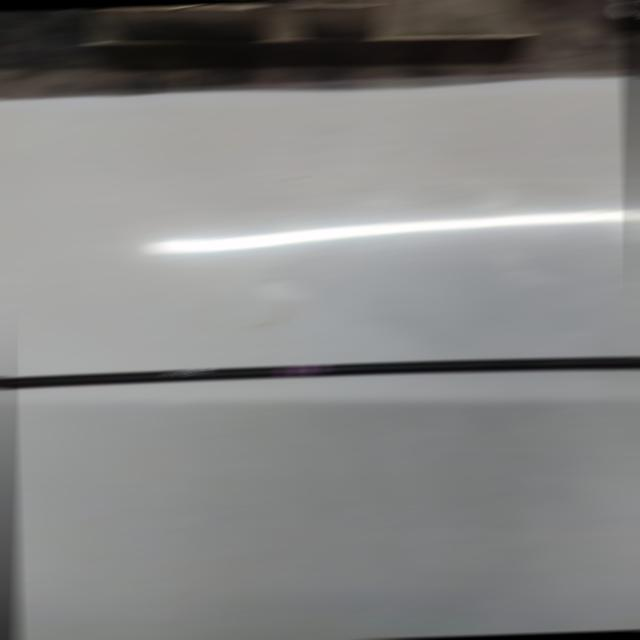pink: (280, 365, 324, 376)
